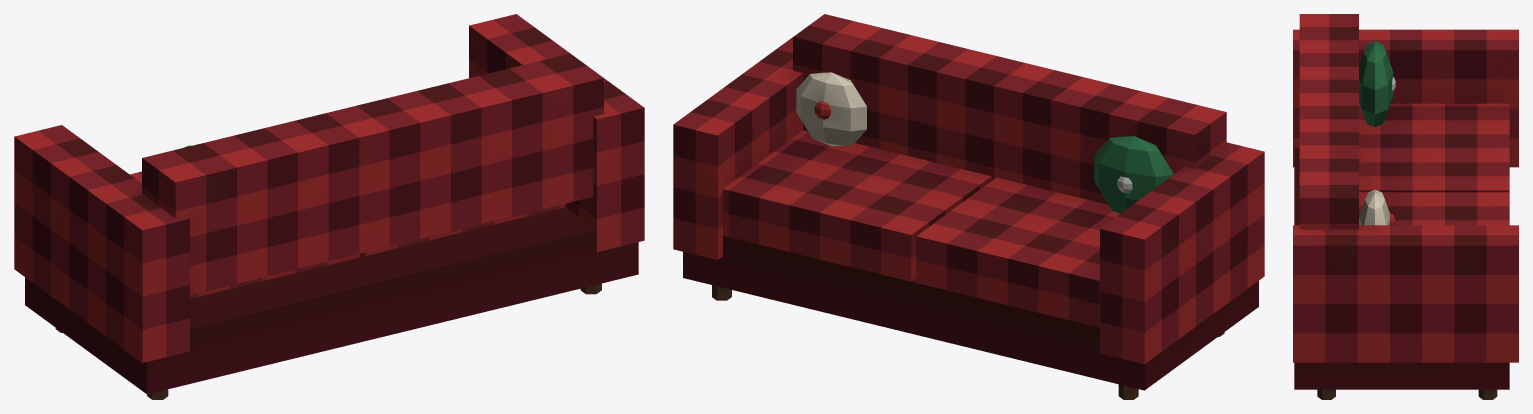
File: xmas_check_sofa_low.glb
3 renders of one model, left to right at view 1: azimuth 30°, elevation 25°; view 2: azimuth 150°, elevation 25°; view 3: azimuth 270°, elevation 25°, orthographic. The views are drawn at different scales.
Size of the model in its own units: 1.9 by 0.81 by 0.84.
